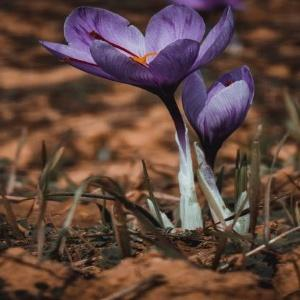Saffron: (47, 2, 235, 107), (180, 65, 253, 172)
